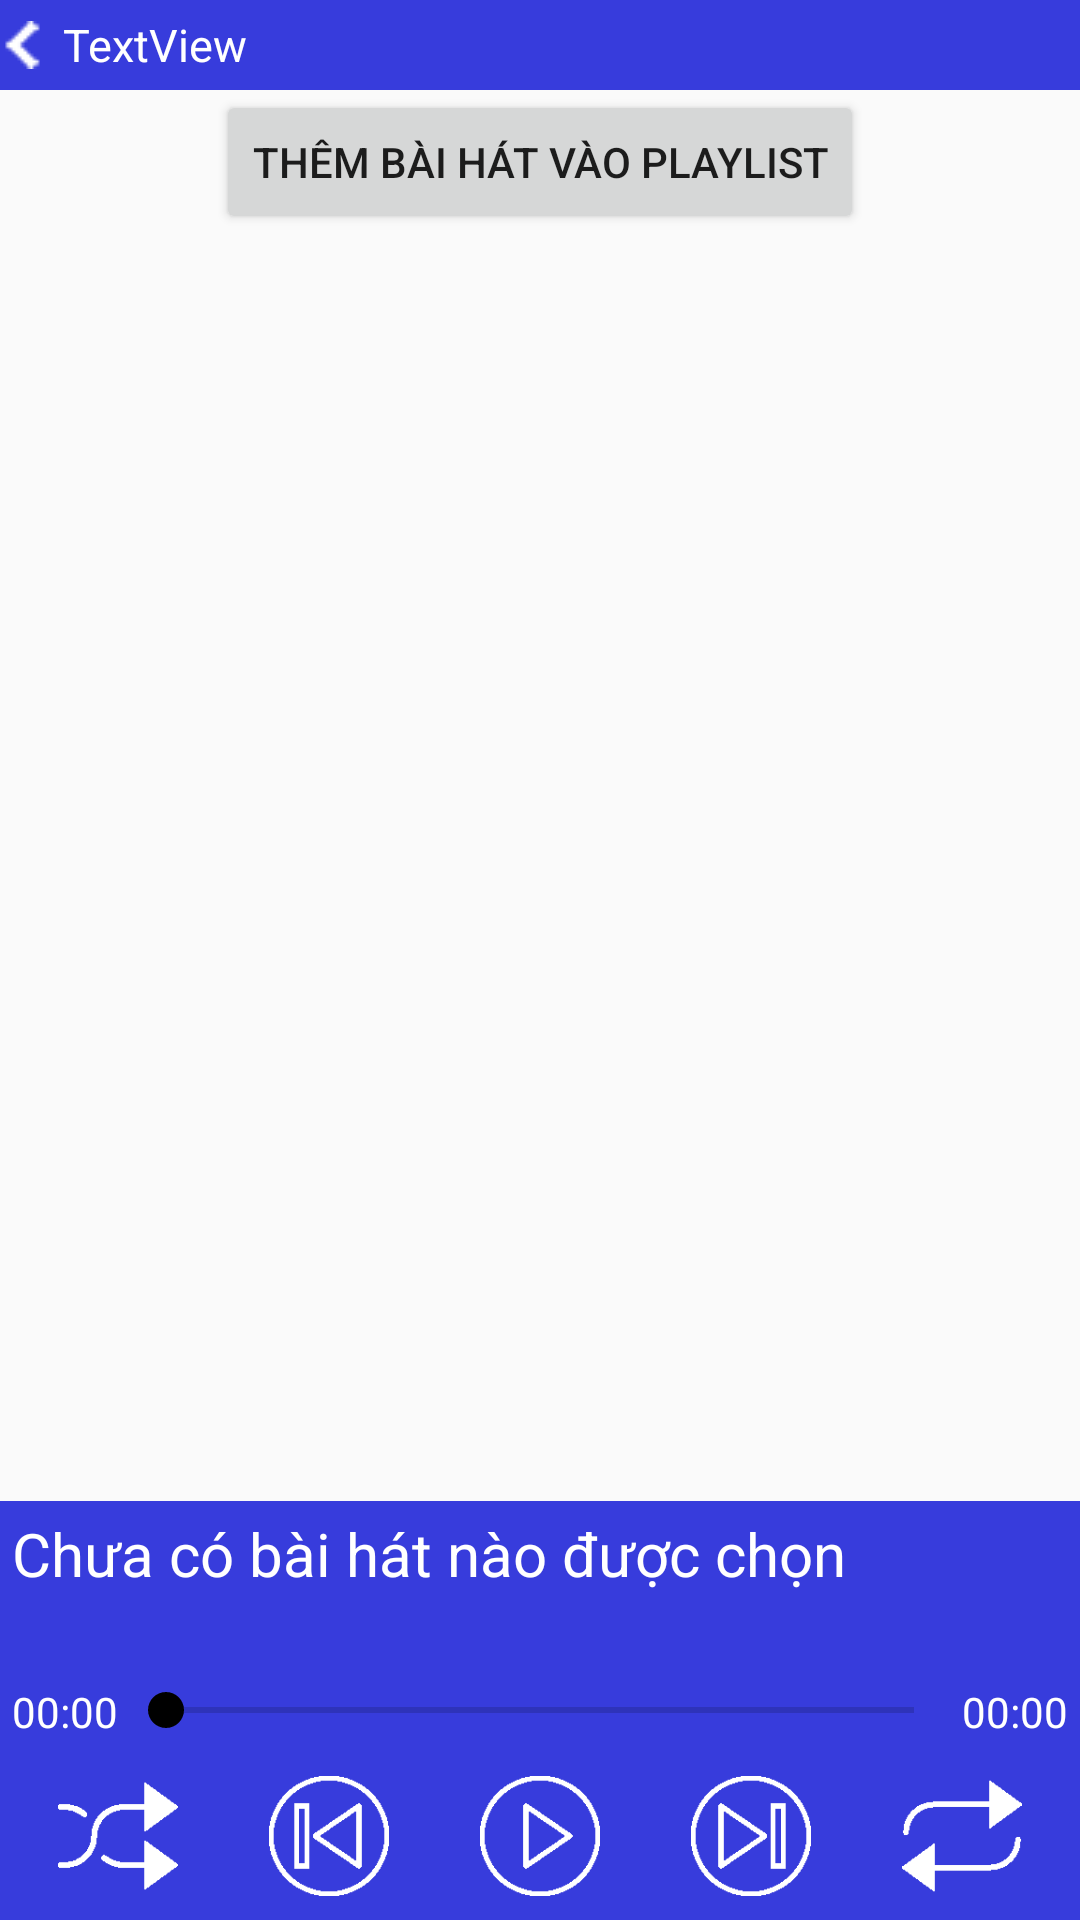

Named icons in this screenshot (1080px x 1920px) and their bounding boxes, (x1, y1, x2, y2):
back: (5, 21, 40, 69)
next: (691, 1776, 811, 1896)
play: (480, 1776, 600, 1896)
previous: (269, 1776, 389, 1896)
repeat: (902, 1780, 1022, 1892)
shuffle: (58, 1782, 178, 1890)
